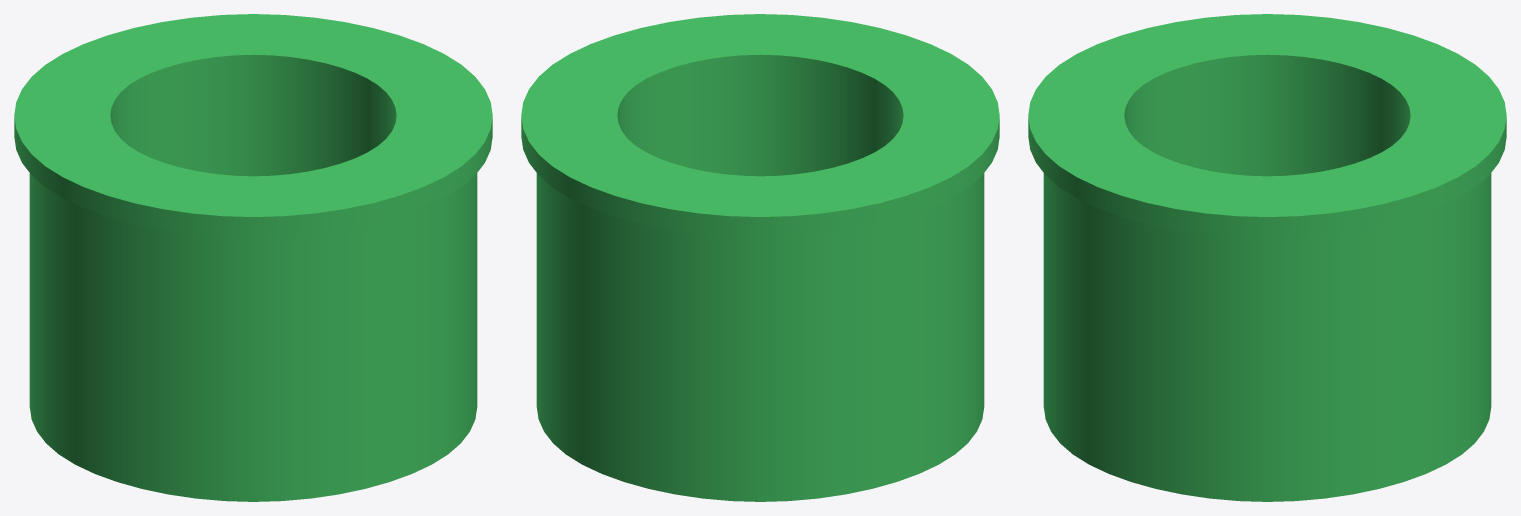
Rendered from Plot_Haut.fbx.
3 views of the same model, side by side, from view 1: azimuth 30°, elevation 25°; view 2: azimuth 150°, elevation 25°; view 3: azimuth 270°, elevation 25° (orthographic).
Parts seen in each view (by area): view 1: Cylinder; view 2: Cylinder; view 3: Cylinder.
Boxes of the visible parts, <box> form: Cylinder: <box>14,14,492,501</box>; Cylinder: <box>521,14,999,501</box>; Cylinder: <box>1028,14,1506,501</box>.
Size of the model in its own units: 89.39 by 59.8 by 88.99.
